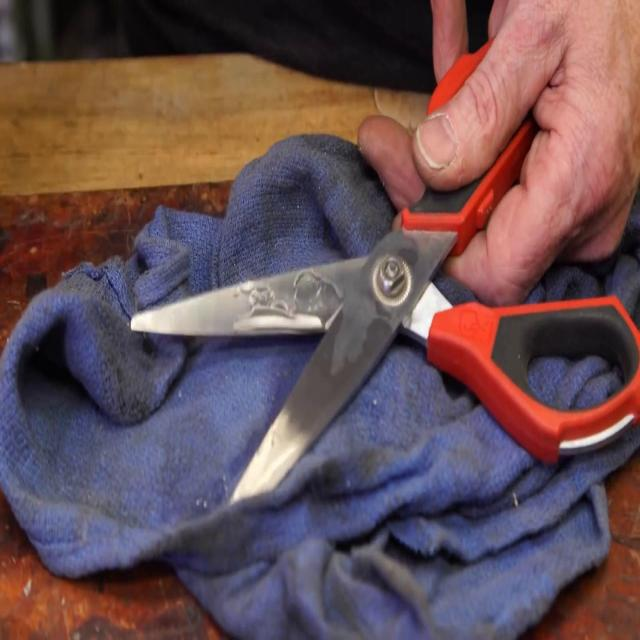scissor: (132, 34, 640, 504)
